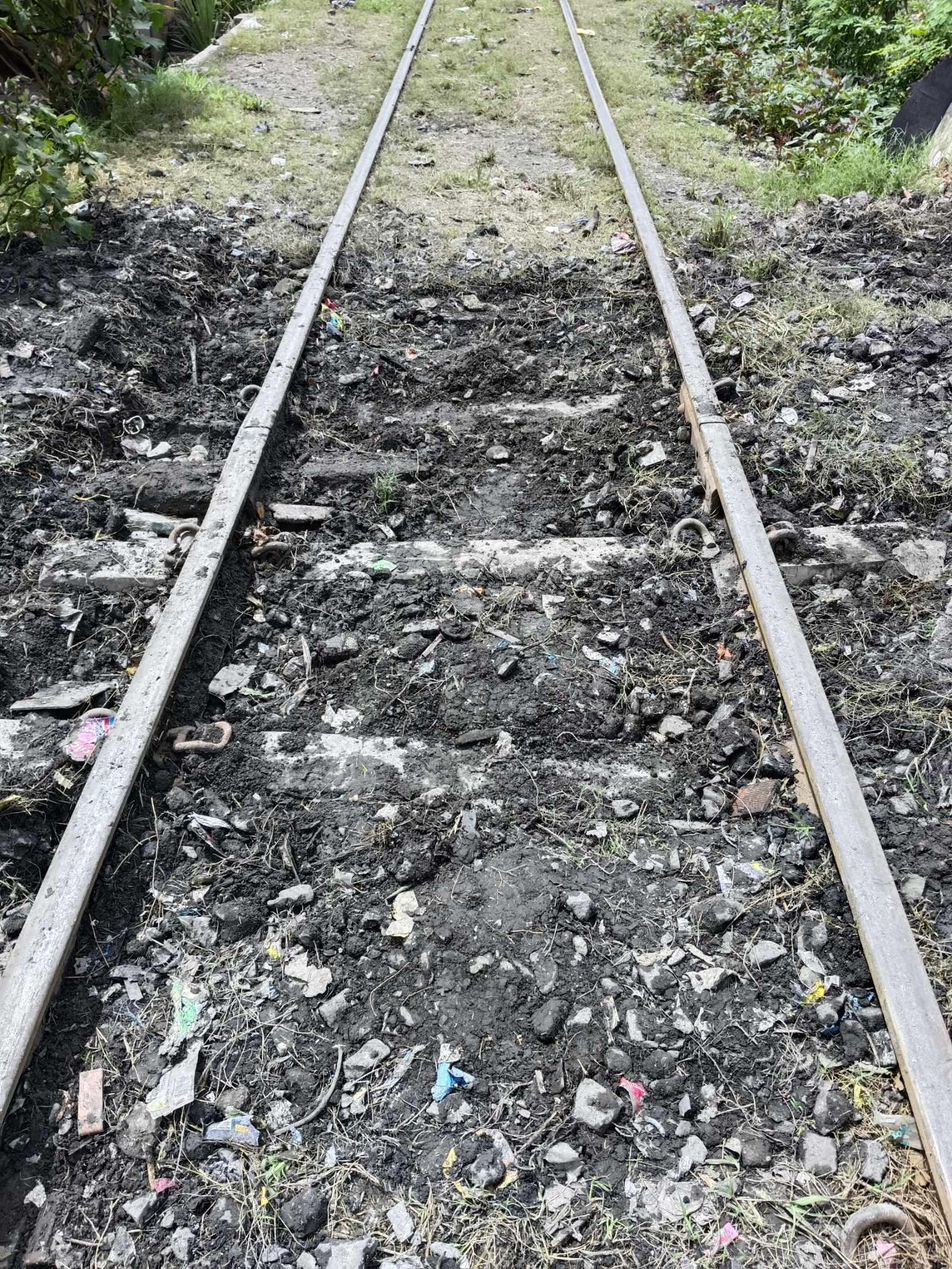railway-gap: (199, 377, 311, 472), (666, 378, 762, 474)
